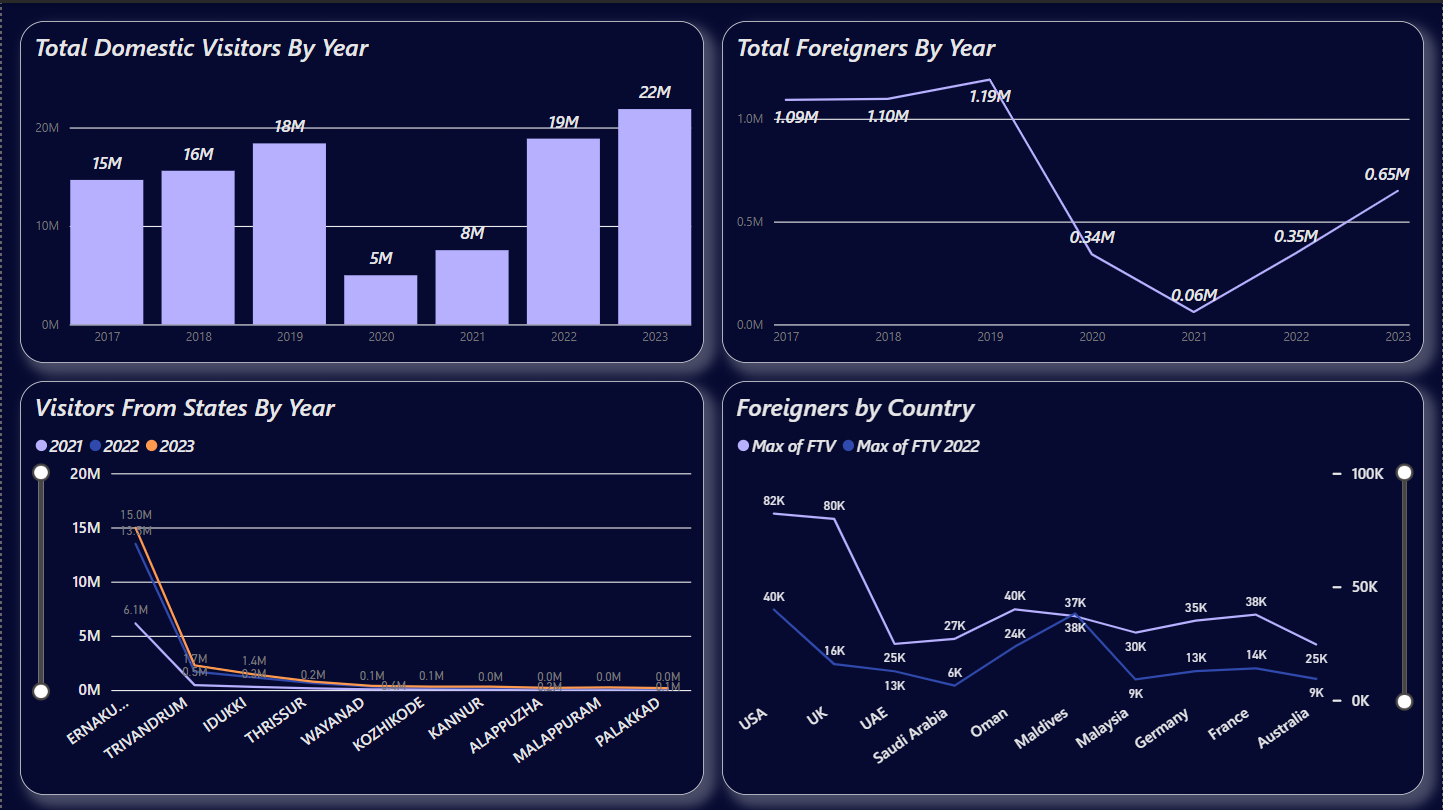

The dashboard page shown, as its layout file describes it:
{"tool":"powerbi","page":{"name":"Analysis by Year","canvas":[1280,720],"ordinal":1},"visuals":[{"type":"donutChart","title":"Total Domestic Visitors By Year","fields":{"Y":["Max(Total Visiters by Year.DOMESTICTOURIST VISITS(DTV))"],"Category":["Total Visiters by Year.Year"]},"box":[16,16,608,304],"z":0},{"type":"pieChart","title":"Total Foreigners By Year","fields":{"Y":["Sum(Total Visiters by Year.FOREIGNTOURIST VISITS(FTV))"],"Category":["Total Visiters by Year.Year"]},"box":[640,16,624,304],"z":1000},{"type":"lineChart","title":"Visitors From States By Year","fields":{"Category":["District Visit.District"],"Y":["Sum(Domestic Visiters 2022.DTV 2021)","Sum(Domestic Visiters 2022.DTV 2022)","Sum(Domestic Visiters 2023.DTV 2023)"]},"box":[16,336,608,368],"z":2000},{"type":"lineChart","title":"Foreigners by Country","fields":{"Category":["Foreign Visiters 2022.Country"],"Y2":["Max(Foreign Visiters 2023.FTV)","Max(Foreign Visiters 2022.FTV 2022)"]},"box":[640,336,624,368],"z":3000}]}

Visuals, with their boxes in screenshot pixels (x1, y1, x2, y2), scaled from the page's 1280x720 canvas onto the 1443x810 screenshot:
"Total Domestic Visitors By Year" donutChart: (18,18,703,360)
"Total Foreigners By Year" pieChart: (722,18,1425,360)
"Visitors From States By Year" lineChart: (18,378,703,792)
"Foreigners by Country" lineChart: (722,378,1425,792)
